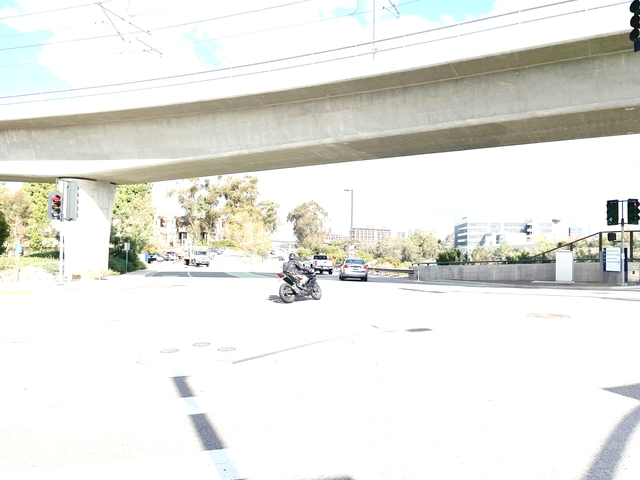Car: (339, 258, 368, 282), (304, 253, 333, 276), (183, 244, 210, 268)
